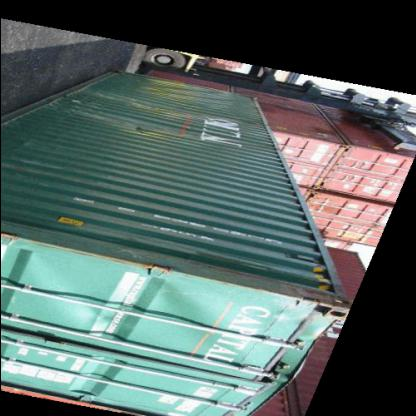Damage: (138, 243, 342, 385), (130, 78, 256, 156)
